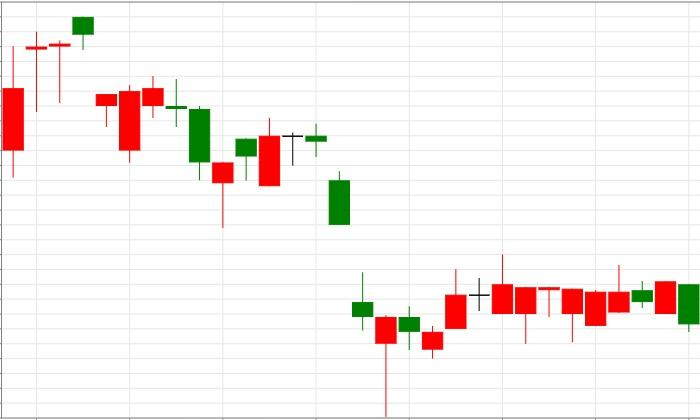hammer_rise: (282, 123, 396, 418)
